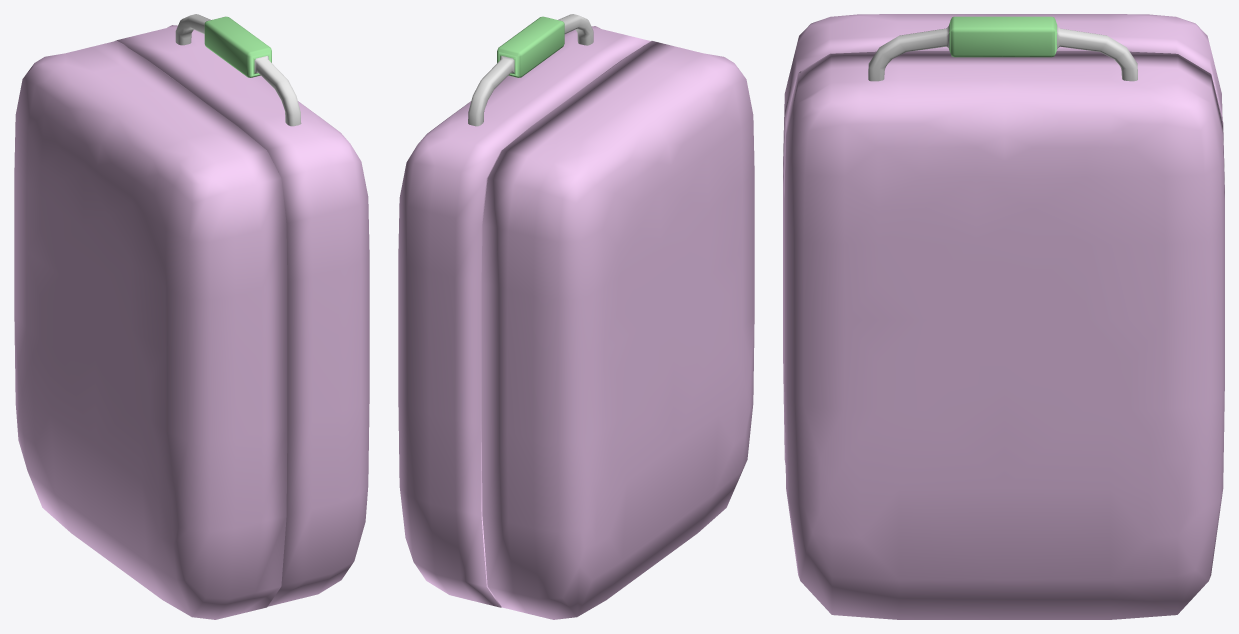
Rendered from NewBigBox.fbx.
The picture shows the model from 3 angles, left to right: view 1: azimuth 30°, elevation 25°; view 2: azimuth 150°, elevation 25°; view 3: azimuth 270°, elevation 25°; orthographic projection. The views are drawn at different scales.
Parts seen in each view (by area): view 1: VelikaKutijaR.001, VelikaKutijaR.004, Cube.052; view 2: VelikaKutijaR.001, VelikaKutijaR.004, Cube.052; view 3: VelikaKutijaR.004, VelikaKutijaR.001, Cube.052.
Boxes of the visible parts, x1,y1,x2,y2 form: VelikaKutijaR.001: [14, 40, 287, 619]; VelikaKutijaR.004: [115, 25, 369, 606]; Cube.052: [175, 14, 301, 126]; VelikaKutijaR.001: [481, 41, 754, 619]; VelikaKutijaR.004: [398, 26, 650, 607]; Cube.052: [468, 14, 593, 126]; VelikaKutijaR.004: [784, 51, 1224, 619]; VelikaKutijaR.001: [783, 14, 1222, 464]; Cube.052: [868, 16, 1137, 81].
Bounding box in the file's own units: 0.9391 × 2.37 × 1.6.
